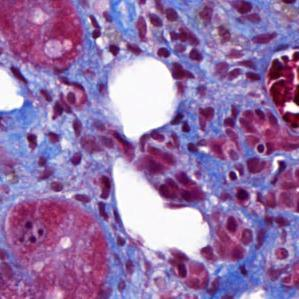inflammation: (48, 88, 82, 123), (169, 57, 200, 85), (267, 151, 291, 187)
